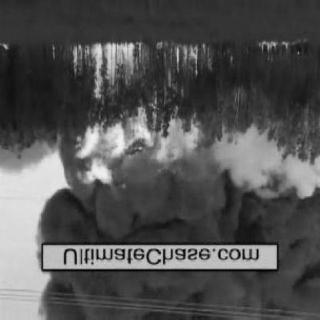Fire: (73, 43, 207, 183)
Smoke: (50, 186, 309, 246), (54, 276, 318, 316), (206, 133, 297, 177)
